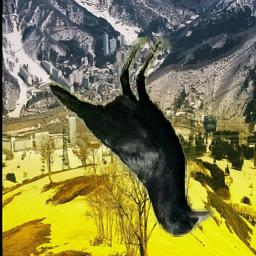Crow: (47, 37, 215, 237)
